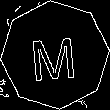M_N: (29, 28, 81, 82)
